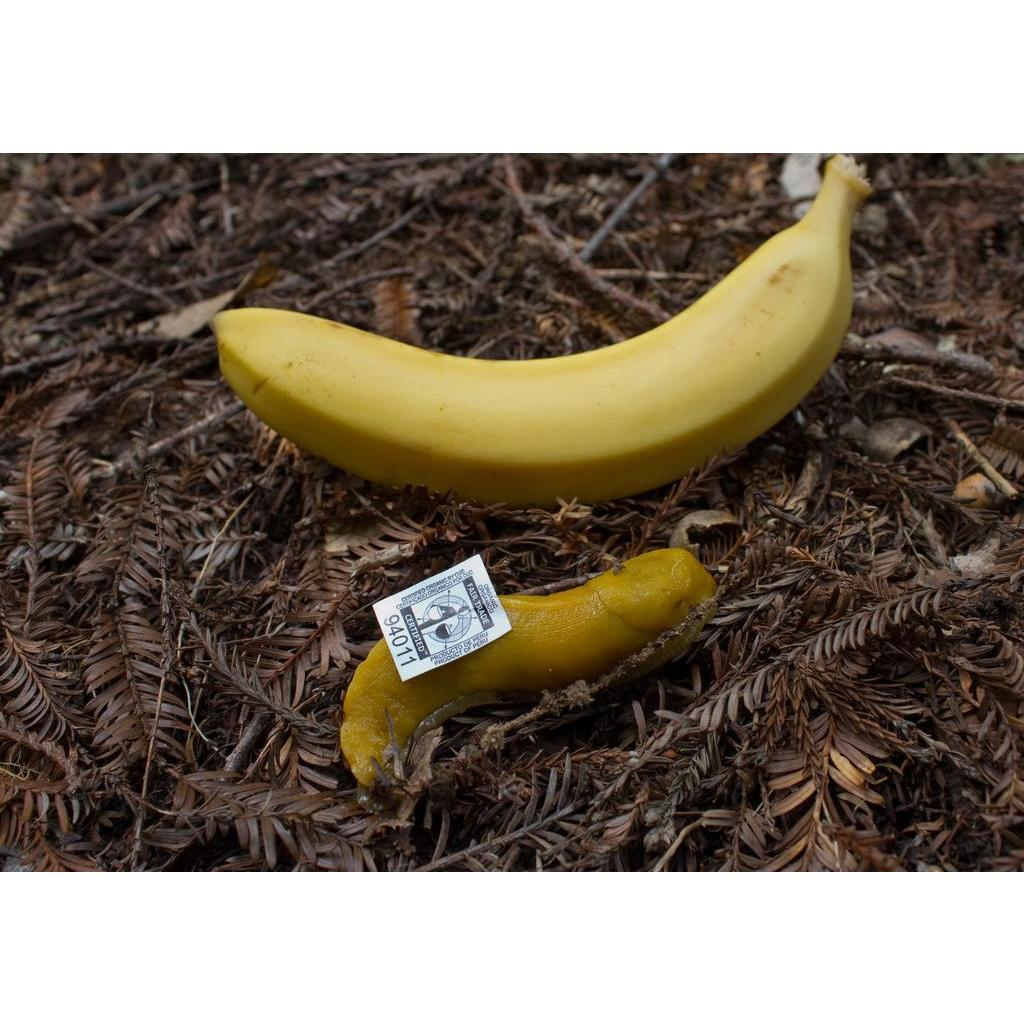banana: (209, 153, 877, 507)
